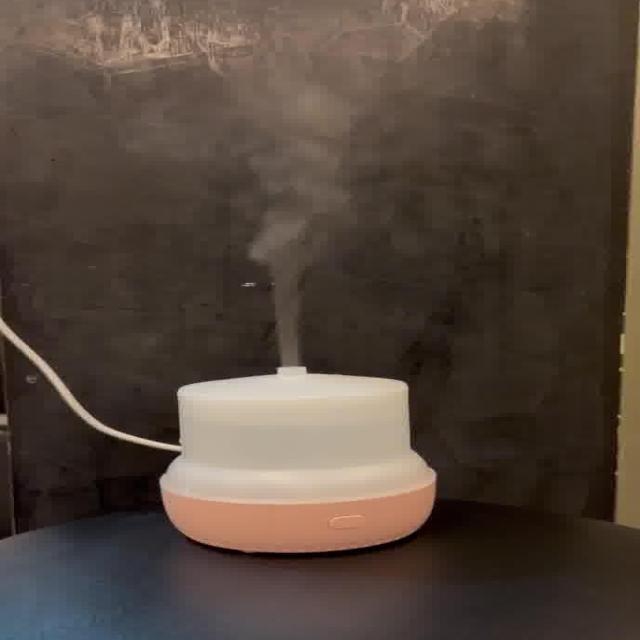fire: (213, 117, 362, 366)
